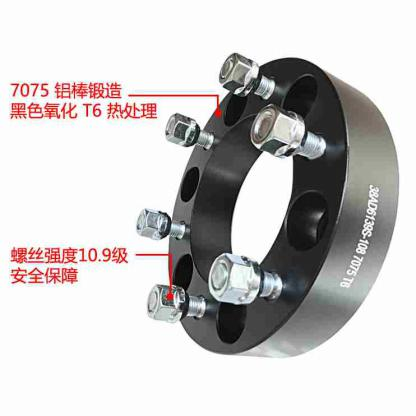FOD: (162, 51, 403, 361)
